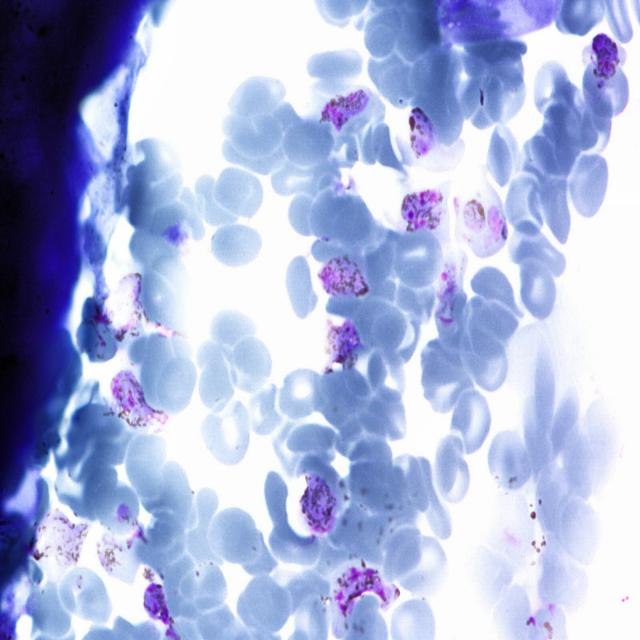difficult: (326, 318, 362, 367), (590, 30, 620, 77)
gametocyte: (299, 472, 339, 536), (318, 255, 372, 300)
red blood cell: (507, 219, 567, 281), (198, 400, 251, 469), (54, 565, 114, 625), (458, 325, 510, 394), (419, 354, 475, 416), (448, 387, 491, 459), (470, 264, 523, 322), (568, 151, 610, 221), (214, 161, 262, 222), (209, 508, 259, 566), (582, 58, 630, 118), (535, 174, 574, 247), (225, 75, 286, 121), (488, 430, 533, 492), (228, 334, 274, 394), (178, 560, 229, 613), (209, 222, 263, 272), (532, 59, 574, 123), (504, 174, 545, 239), (276, 368, 328, 419), (434, 434, 471, 505), (486, 120, 524, 189), (518, 257, 558, 322), (285, 255, 318, 322), (208, 307, 259, 350), (199, 362, 239, 412)
schizont: (109, 368, 169, 432), (334, 564, 396, 619), (143, 582, 180, 640), (401, 189, 445, 235)
trophozoite: (452, 182, 508, 256), (322, 87, 371, 129), (436, 255, 459, 324), (407, 107, 435, 160)
